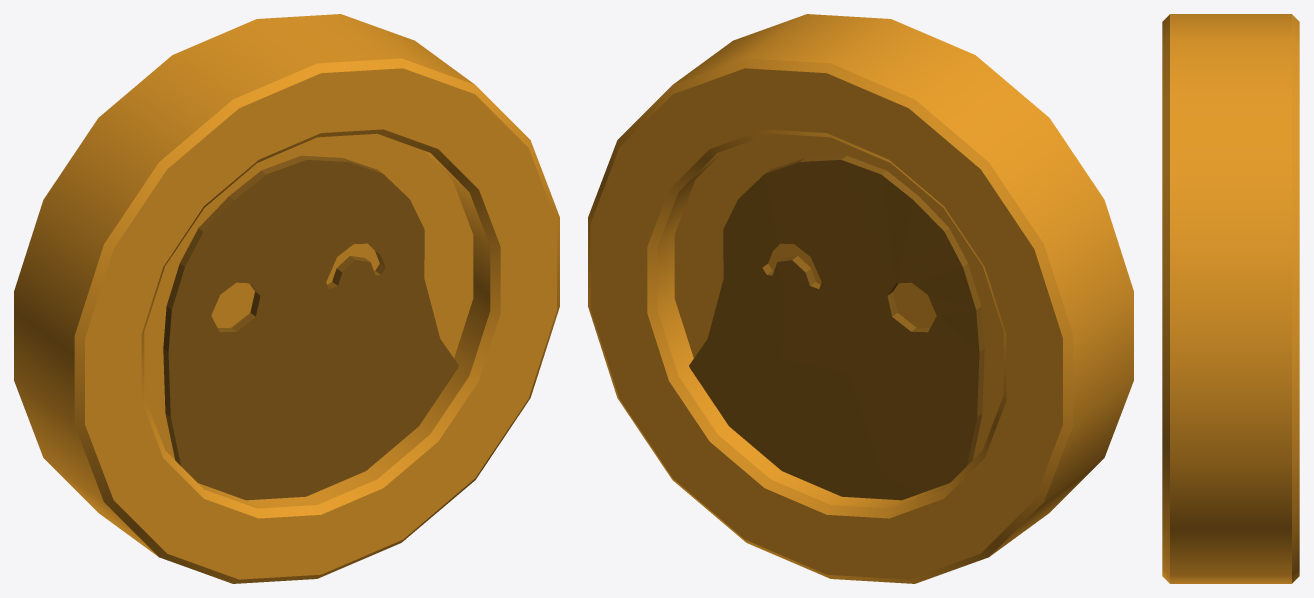
Rendered from Coin.fbx.
3 views of the same model, side by side, from view 1: azimuth 30°, elevation 25°; view 2: azimuth 150°, elevation 25°; view 3: azimuth 270°, elevation 25° (orthographic).
Parts seen in each view (by area): view 1: Cylinder; view 2: Cylinder; view 3: Cylinder.
Boxes of the visible parts, <box> form: Cylinder: <box>14,14,559,583</box>; Cylinder: <box>588,14,1133,583</box>; Cylinder: <box>1162,14,1299,583</box>.
Bounding box in the file's own units: 197 × 200 × 48.
